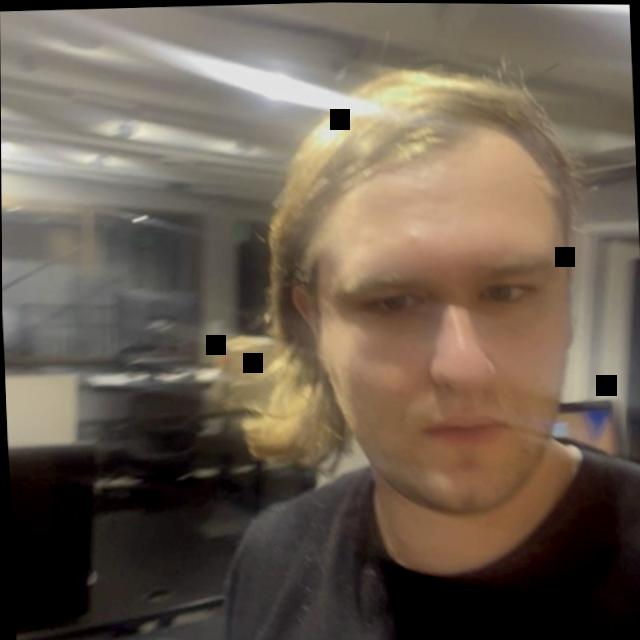NO-Mask: (201, 13, 631, 591)
